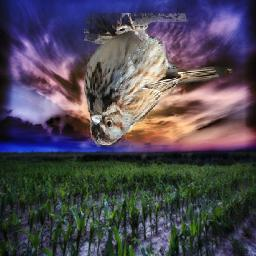Sparrow: (85, 13, 234, 147)
